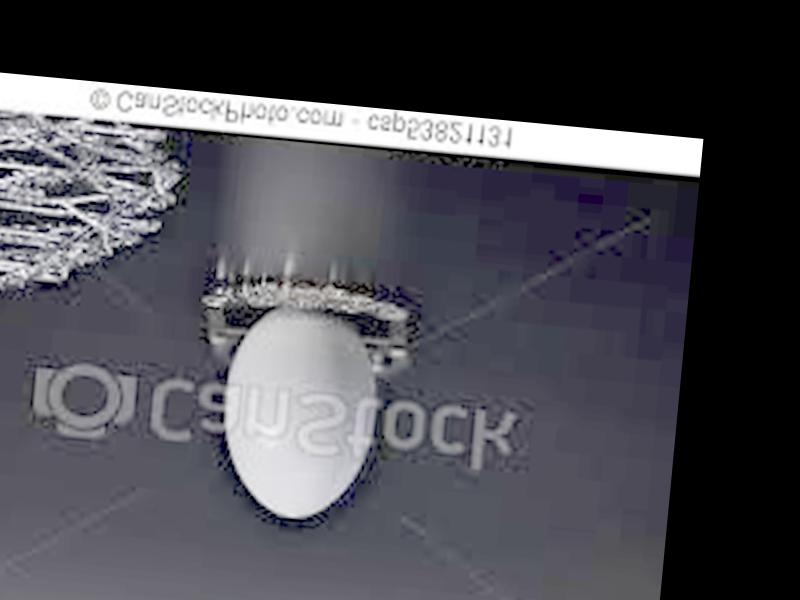Eggs: (213, 301, 384, 523)
